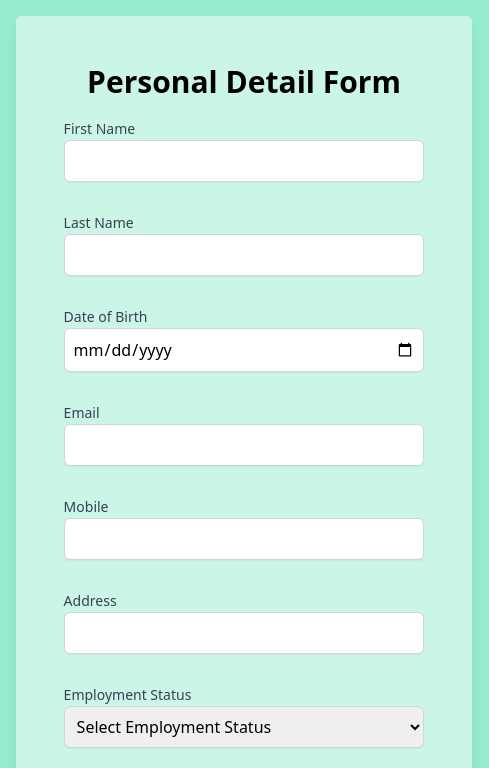
Test: PersonalDetailsForm Component › should show validation errors for invalid data
Type "1" into the field named "firstName" below "First Name" at (245,161), box [64,140,425,182]
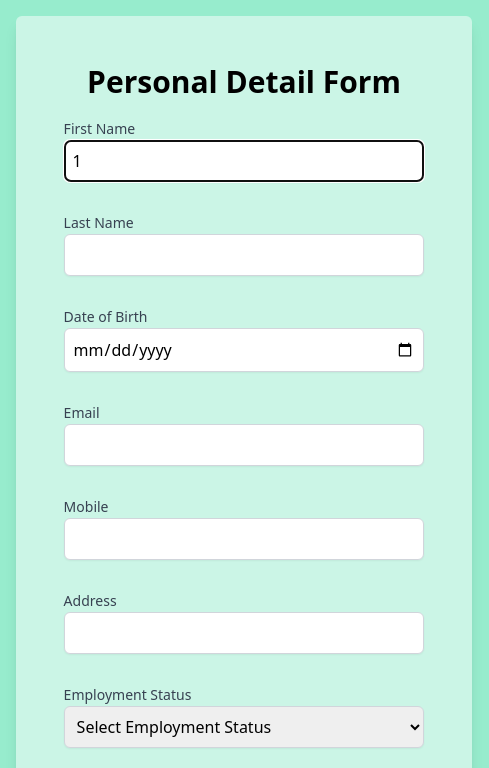
Scroll
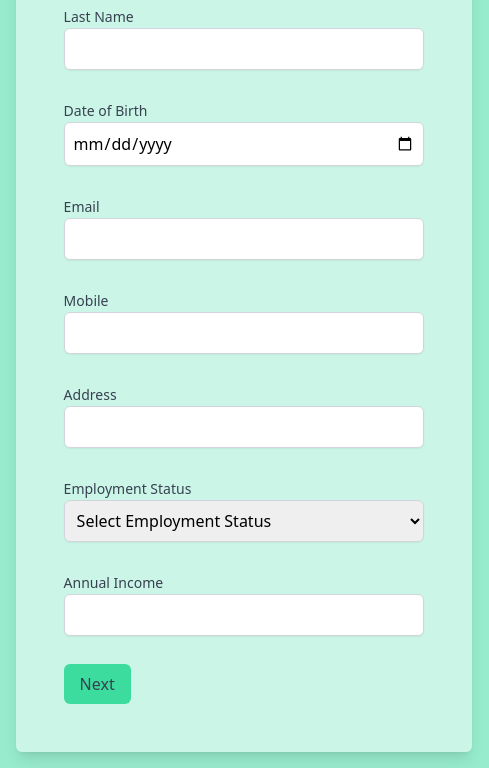
Click the submit button at (98,684), box [64,664,131,704]
(page scrolled)
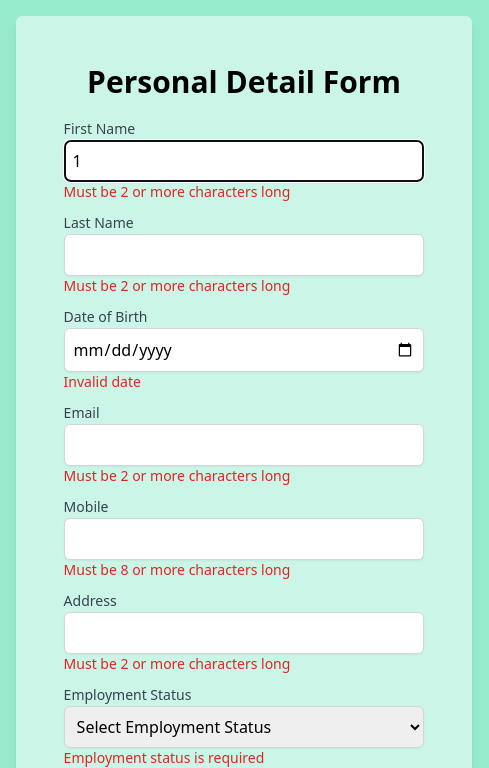
Result: the text "Must be 2 or more characters long" below "First Name" is shown at [64,182,291,201]
